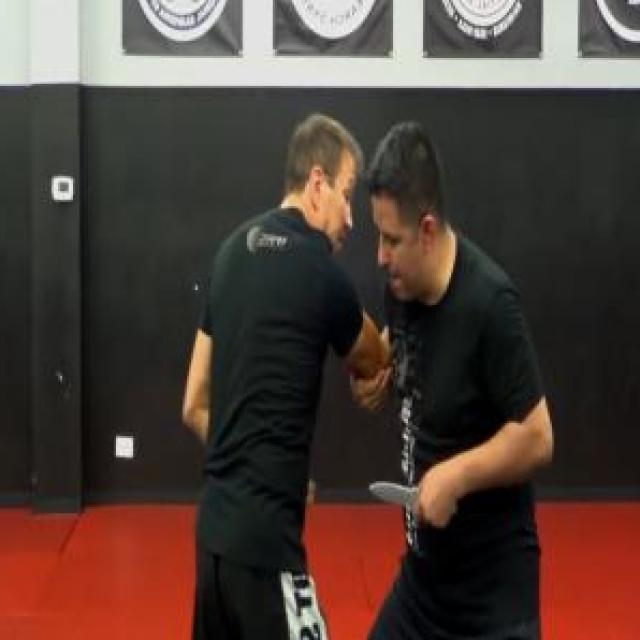knife: (365, 468, 462, 525)
